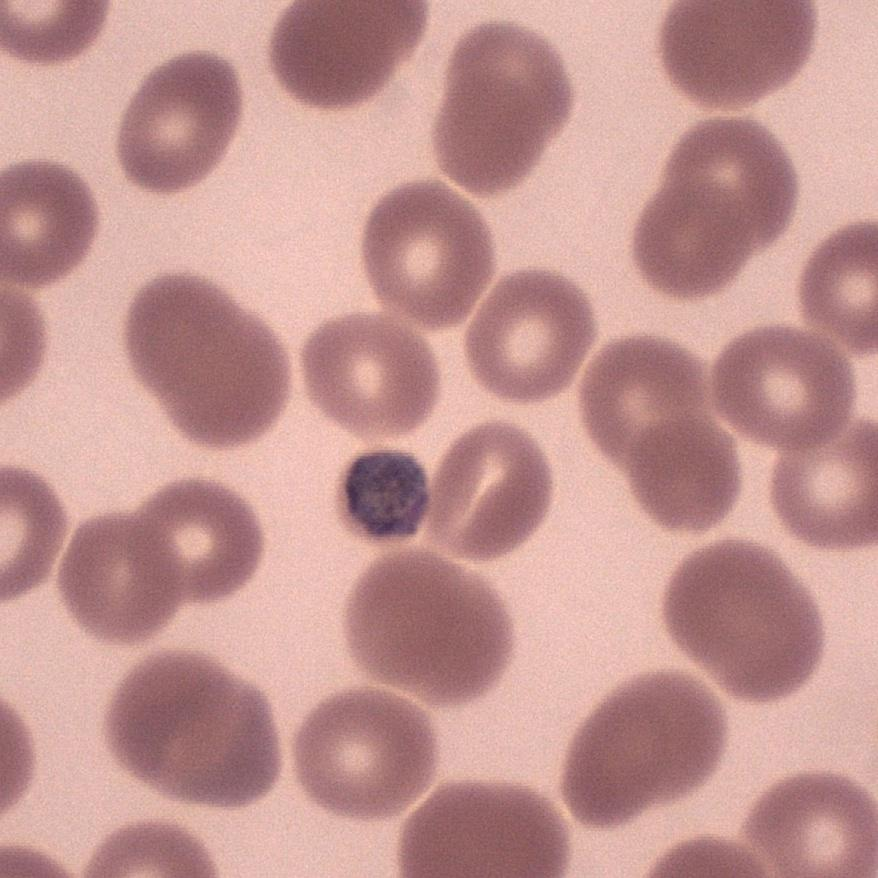Infected: (333, 451, 433, 540)
Uninfected: (652, 541, 822, 701), (350, 548, 507, 701), (282, 686, 450, 816), (355, 183, 498, 328), (310, 306, 447, 438), (460, 266, 592, 403), (425, 418, 547, 566), (110, 56, 238, 193), (715, 328, 858, 450), (60, 518, 188, 651), (580, 333, 710, 461), (397, 781, 567, 878), (100, 651, 235, 773), (657, 0, 817, 101), (672, 121, 797, 248), (163, 673, 273, 813), (178, 316, 295, 446), (742, 768, 877, 878), (628, 411, 743, 540), (772, 408, 878, 546), (275, 3, 417, 104), (558, 693, 663, 828), (450, 21, 573, 136), (615, 671, 725, 795), (635, 171, 743, 296), (117, 273, 232, 390), (142, 483, 257, 598), (0, 158, 100, 289), (430, 88, 545, 198), (800, 216, 875, 366)
